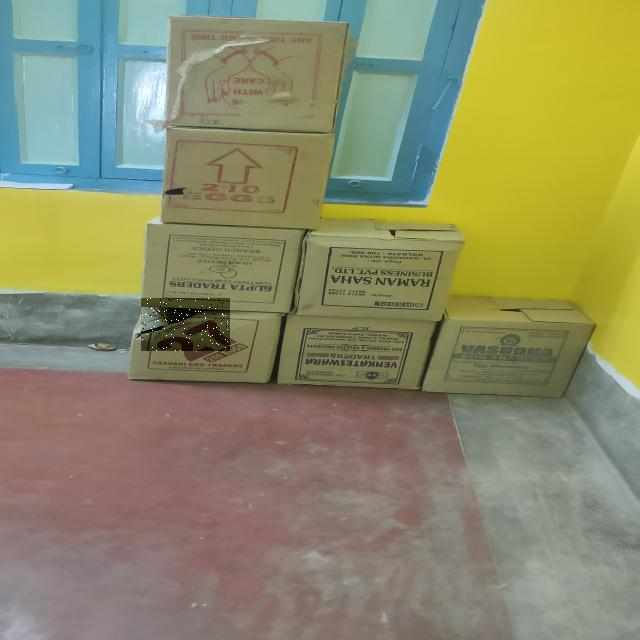squeeze: (141, 299, 228, 351)
